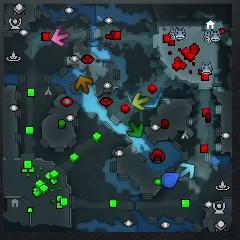p1: (163, 173, 180, 188)
x1: (51, 27, 69, 47)
x2: (131, 91, 149, 111)
x3: (180, 162, 195, 180)
x4: (127, 120, 144, 138)
x5: (75, 75, 91, 93)
